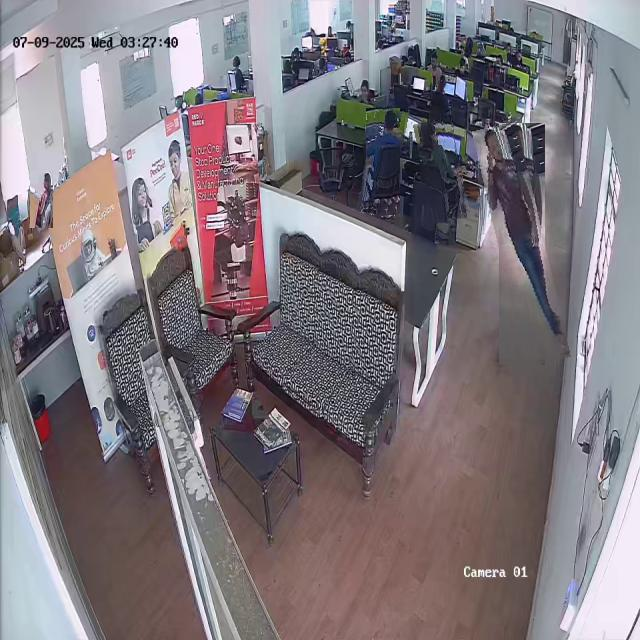person: (486, 122, 558, 366), (418, 119, 466, 224), (361, 107, 405, 216), (30, 171, 53, 228)
